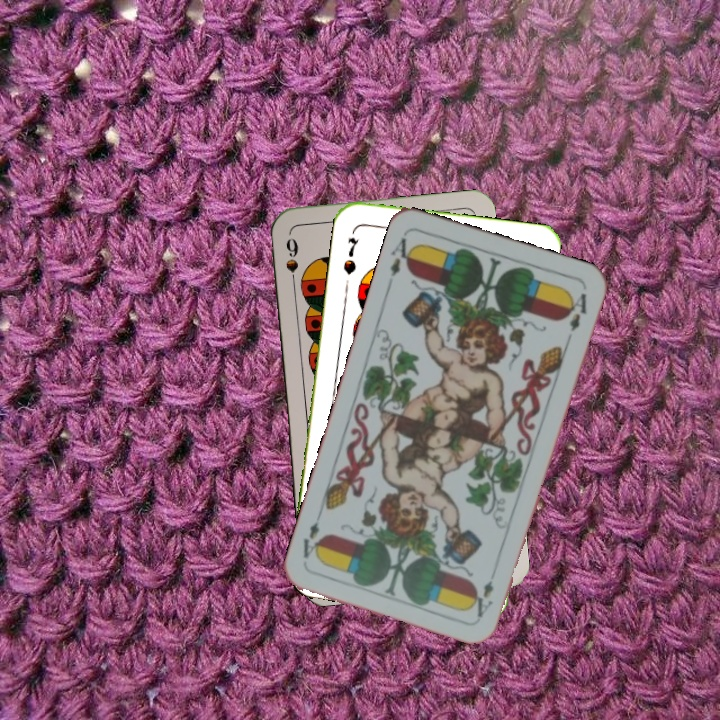EA: (384, 234, 418, 289), (473, 576, 496, 620)
S7: (339, 233, 361, 278)
S9: (281, 234, 301, 291)
